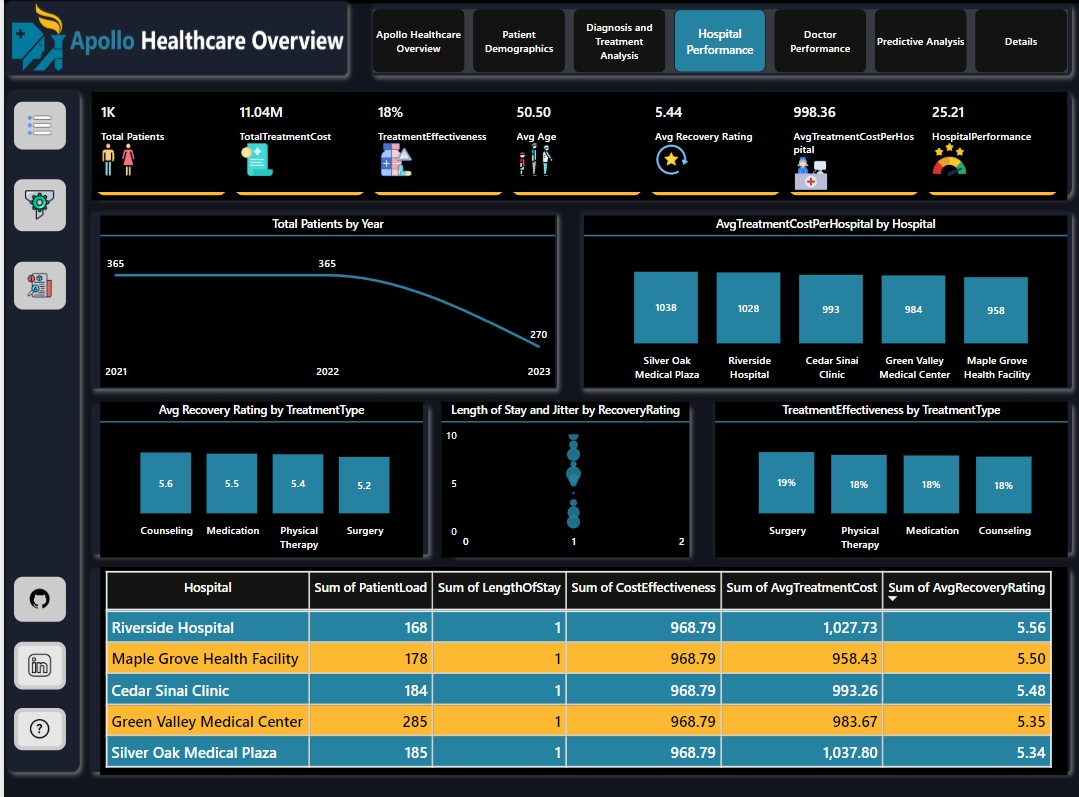

Layout of this report page (visuals, bound fields, positions):
{"tool":"powerbi","page":{"name":"Hospital Performance","canvas":[1245,934],"ordinal":3},"visuals":[{"type":"image","box":[11,120.5,60,55],"z":0,"group":"g1"},{"type":"columnChart","fields":{"Category":["Healthcare 2.TreatmentType"],"Y":["All Measures.Avg Recovery Rating"]},"box":[111.1,466.4,372.5,180],"z":0},{"type":"image","box":[11,210.3,59.9,59.9],"z":1000,"group":"g1"},{"type":"columnChart","fields":{"Category":["Healthcare 2.Hospital"],"Y":["All Measures.AvgTreatmentCostPerHospital"]},"box":[669.8,252,558.7,198.8],"z":1000},{"type":"lineChart","fields":{"Category":["Date.Date.Variation.Date Hierarchy.Year","Date.Date.Variation.Date Hierarchy.Quarter","Date.Date.Variation.Date Hierarchy.Month","Date.Date.Variation.Date Hierarchy.Day"],"Y":["All Measures.Total Patients"]},"box":[111.1,252,525.8,198.8],"z":2000},{"type":"image","box":[11,305.1,59.9,55],"z":2000,"group":"g1"},{"type":"scatterChart","fields":{"X":["All Measures.Length of Stay"],"Size":["All Measures.Jitter"],"Y":["Healthcare 2.RecoveryRating"]},"box":[505.5,466.4,286.4,180],"z":3000},{"type":"image","box":[11,743.8,59.9,55],"z":3000,"group":"g1"},{"type":"columnChart","fields":{"Category":["Healthcare 2.TreatmentType"],"Y":["All Measures.TreatmentEffectiveness"]},"box":[821.6,466.4,406.9,180],"z":4000},{"type":"image","box":[11,669.3,59.9,51.8],"z":4000,"group":"g1"},{"type":"tableEx","fields":{"Values":["DetailedHospitalPerformanceWithCostEffectiveness.Hospital","Sum(DetailedHospitalPerformanceWithCostEffectiveness.PatientLoad)","Sum(DetailedHospitalPerformanceWithCostEffectiveness.LengthOfStay)","Sum(DetailedHospitalPerformanceWithCostEffectiveness.CostEffectiveness)","Sum(DetailedHospitalPerformanceWithCostEffectiveness.AvgTreatmentCost)","Sum(DetailedHospitalPerformanceWithCostEffectiveness.AvgRecoveryRating)"]},"box":[111.1,657.3,1117.4,241],"z":5000},{"type":"image","box":[11,821.5,59.9,48.6],"z":5000,"group":"g1"},{"type":"cardVisual","fields":{"Data":["All Measures.Total Patients","All Measures.TotalTreatmentCost","All Measures.TreatmentEffectiveness","All Measures.Avg Age","All Measures.Avg Recovery Rating","All Measures.AvgTreatmentCostPerHospital","All Measures.HospitalPerformance"]},"box":[101.7,108,1126.8,125.2],"z":6000},{"type":"group","id":"g1","title":"Menu Bar","box":[11,120.5,61,749.6],"z":7000},{"type":"pageNavigator","box":[425.7,12.5,802.9,73.6],"z":8000}]}

Visuals, with their boxes on the page's 1245x934 design canvas (x1, y1, x2, y2). These are canvas units, not pixel positions in the 1079x797 screenshot, which may show the page scaled, cropped or inside an application window:
image: x1=11 y1=120 x2=71 y2=176
columnChart - Healthcare 2.TreatmentType x All Measures.Avg Recovery Rating: x1=111 y1=466 x2=484 y2=646
image: x1=11 y1=210 x2=71 y2=270
columnChart - Healthcare 2.Hospital x All Measures.AvgTreatmentCostPerHospital: x1=670 y1=252 x2=1228 y2=451
lineChart - Date.Date.Variation.Date Hierarchy.Year x Date.Date.Variation.Date Hierarchy.Quarter: x1=111 y1=252 x2=637 y2=451
image: x1=11 y1=305 x2=71 y2=360
scatterChart - All Measures.Length of Stay x All Measures.Jitter: x1=506 y1=466 x2=792 y2=646
image: x1=11 y1=744 x2=71 y2=799
columnChart - Healthcare 2.TreatmentType x All Measures.TreatmentEffectiveness: x1=822 y1=466 x2=1228 y2=646
image: x1=11 y1=669 x2=71 y2=721
tableEx - DetailedHospitalPerformanceWithCostEffectiveness.Hospital x Sum(DetailedHospitalPerformanceWithCostEffectiveness.PatientLoad): x1=111 y1=657 x2=1228 y2=898
image: x1=11 y1=822 x2=71 y2=870
cardVisual - All Measures.Total Patients x All Measures.TotalTreatmentCost: x1=102 y1=108 x2=1228 y2=233
"Menu Bar" group: x1=11 y1=120 x2=72 y2=870
pageNavigator: x1=426 y1=12 x2=1229 y2=86
